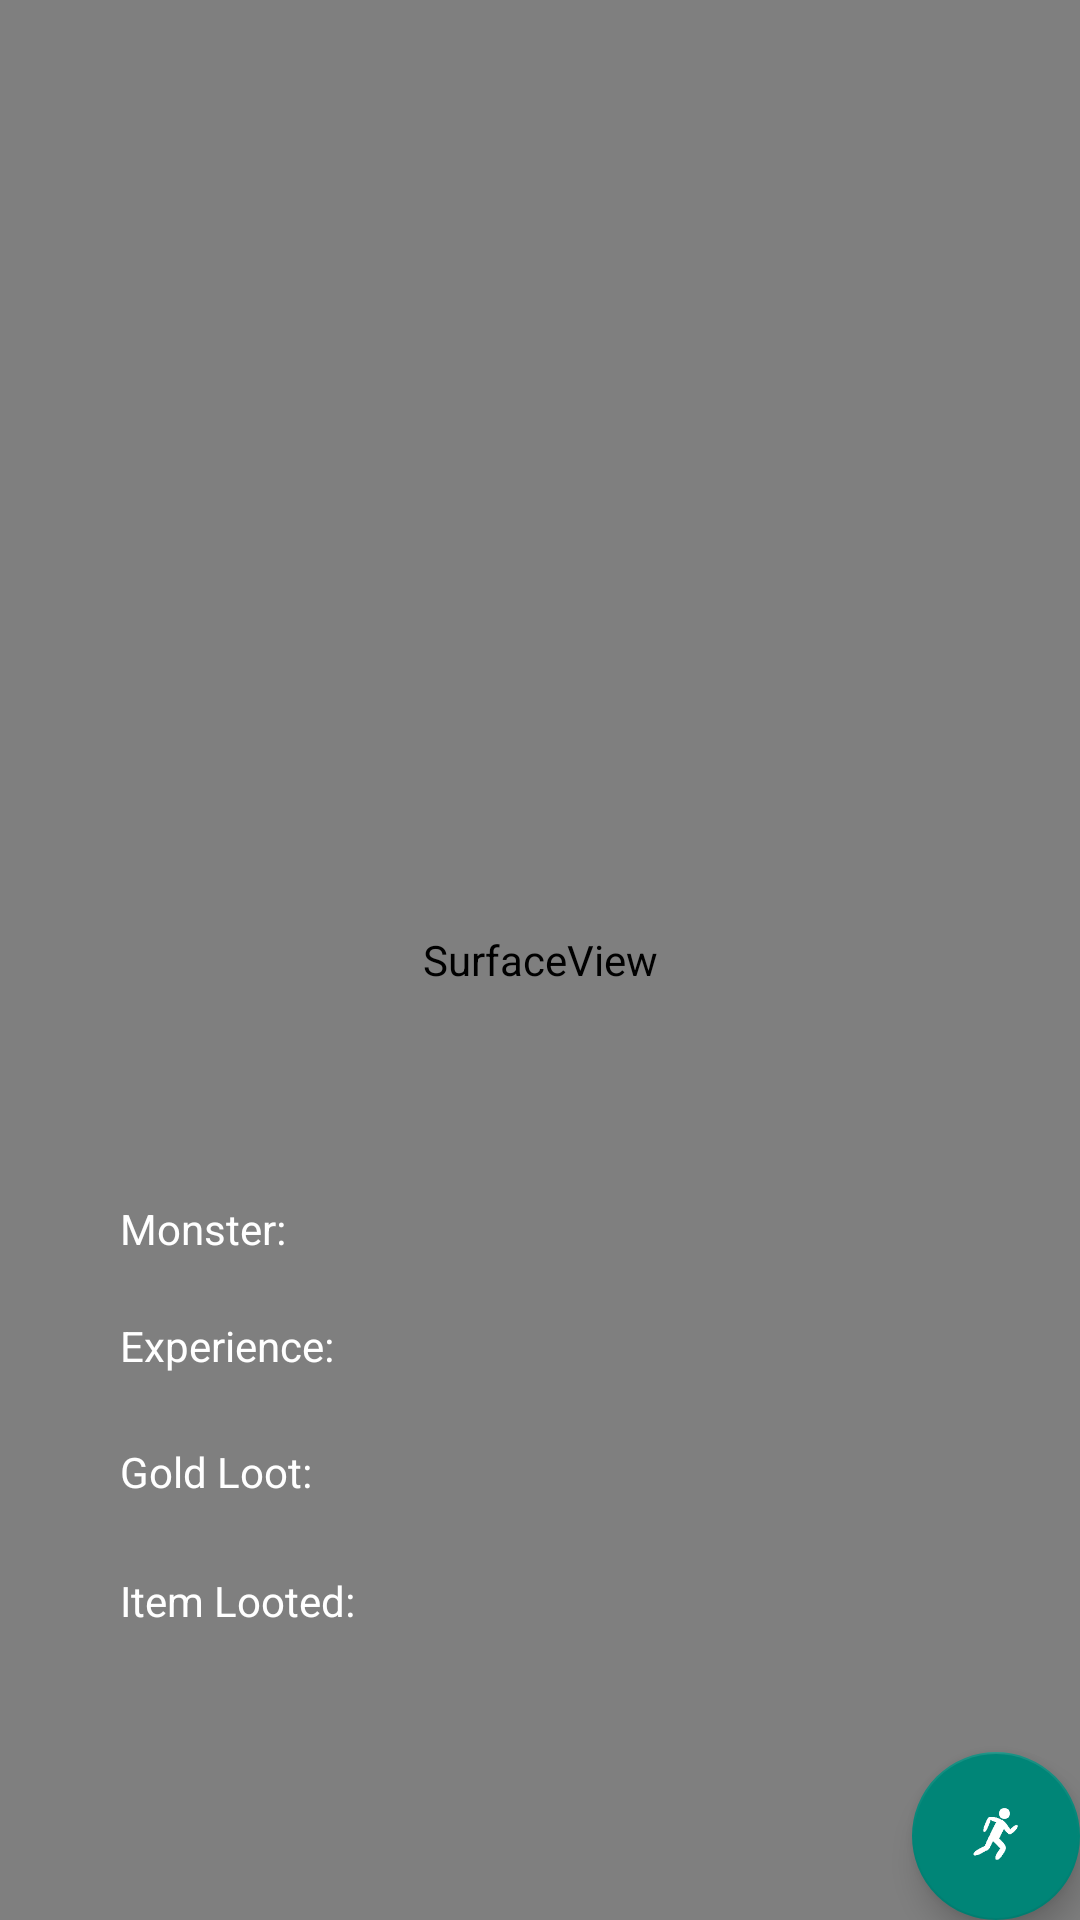

Icon bounding boxes for this 1080 × 1920 phone screenshot, format (left=x1, top=y1, right=x2, bottom=y2):
runman: (left=912, top=1752, right=1080, bottom=1920)
